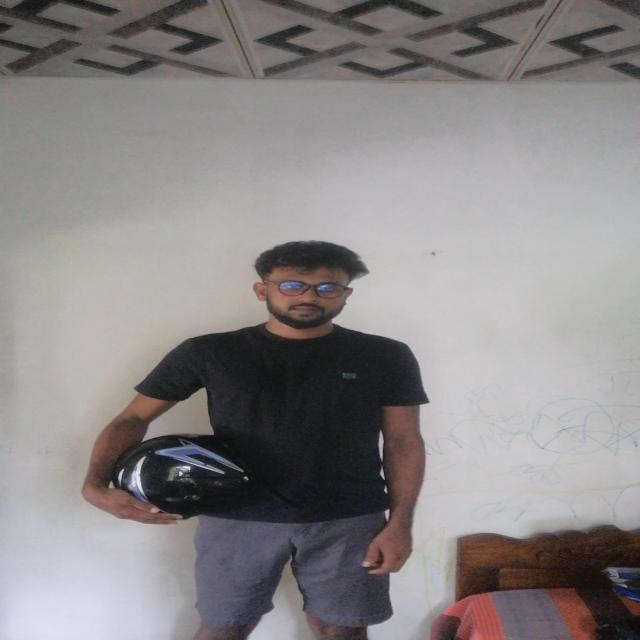Person: (90, 236, 429, 640)
